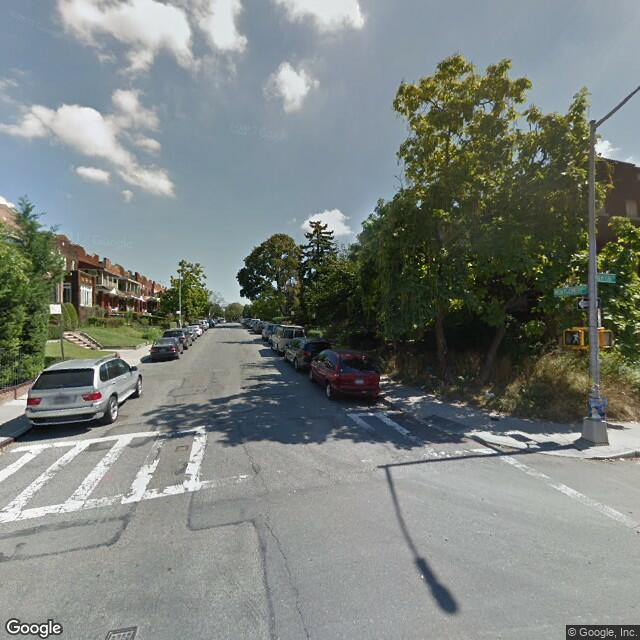litter: (420, 383, 427, 388), (618, 456, 626, 460), (487, 392, 493, 396)
